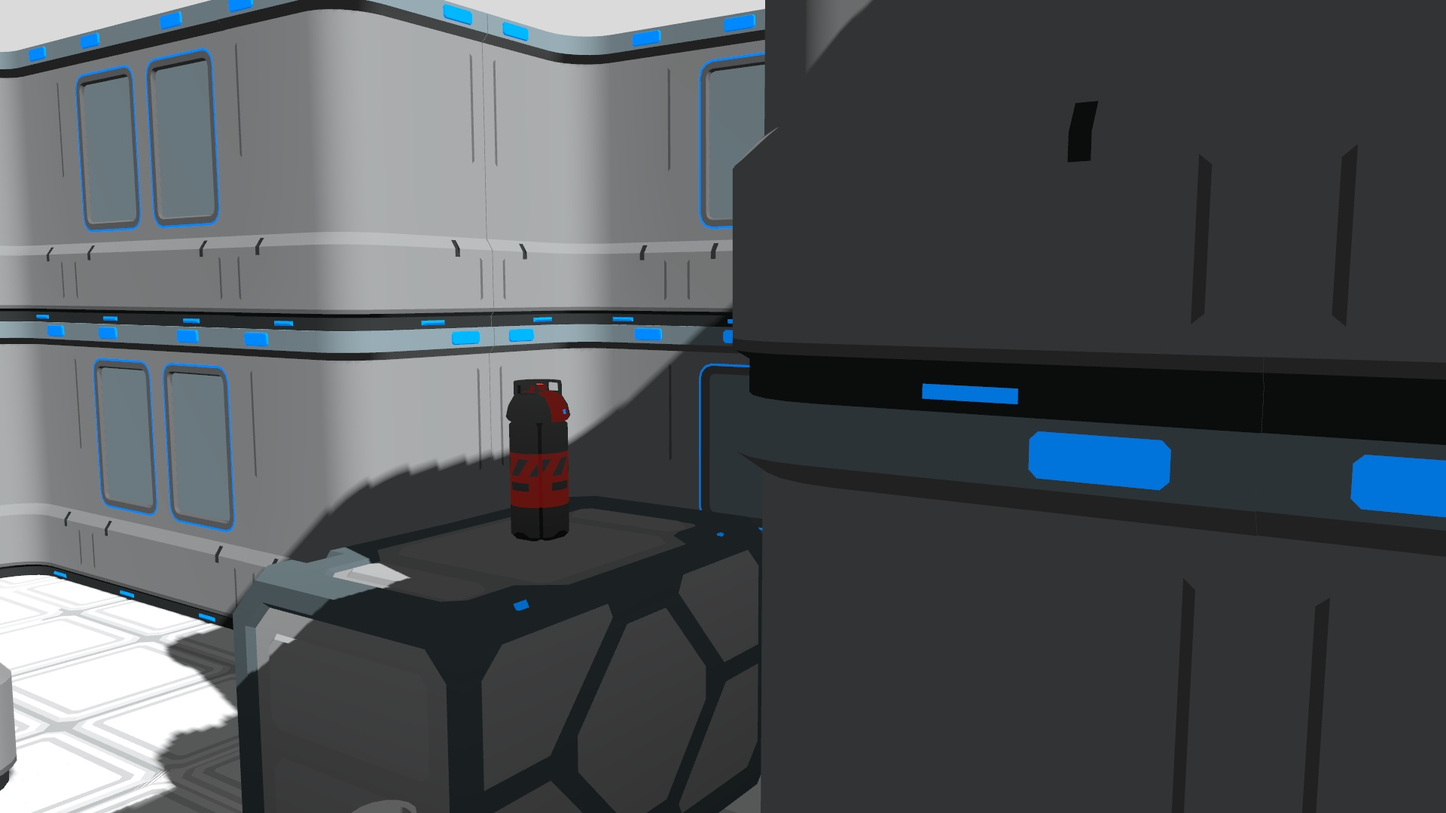red_barrel: (500, 374, 575, 544)
